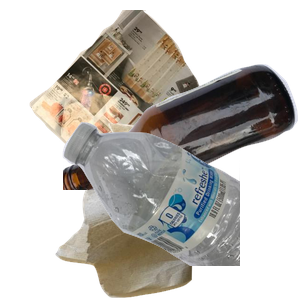glass: (63, 62, 300, 242)
paper: (27, 10, 230, 190)
plastic: (60, 120, 300, 300)
trash: (53, 121, 239, 300)
